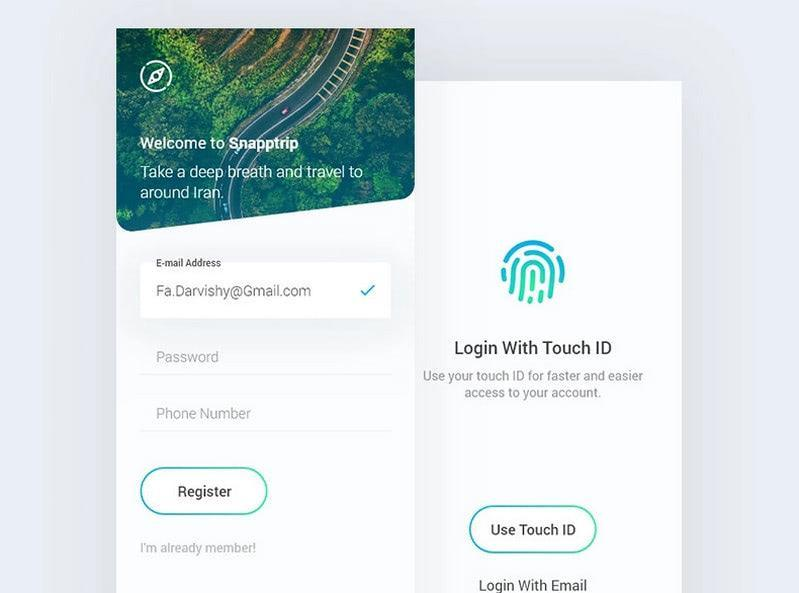button: (469, 506, 600, 554), (141, 468, 269, 517)
input: (140, 264, 390, 318), (140, 386, 399, 435)
